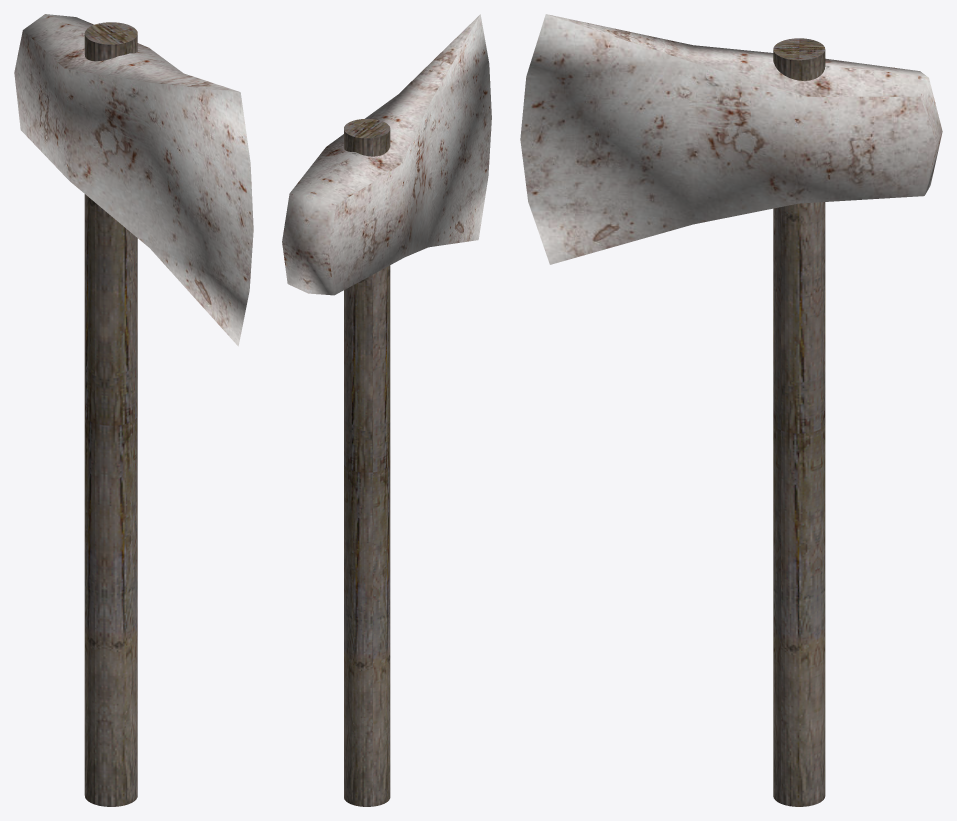
The model's file is axe.glb.
The picture shows the model from 3 angles, left to right: view 1: azimuth 30°, elevation 25°; view 2: azimuth 150°, elevation 25°; view 3: azimuth 270°, elevation 25°; orthographic projection. The views are drawn at different scales.
Visible parts, largest first — view 1: Head, Handle; view 2: Head, Handle; view 3: Head, Handle.
Part boxes in pixels (x1,y1,x2,y2): Head: (14,14,253,346); Handle: (84,22,137,806); Head: (282,14,491,295); Handle: (344,119,390,806); Head: (520,14,942,264); Handle: (773,38,825,806).
Size of the model in its own units: 0.2904 by 2.61 by 1.28.
2 materials, 2 textured.
